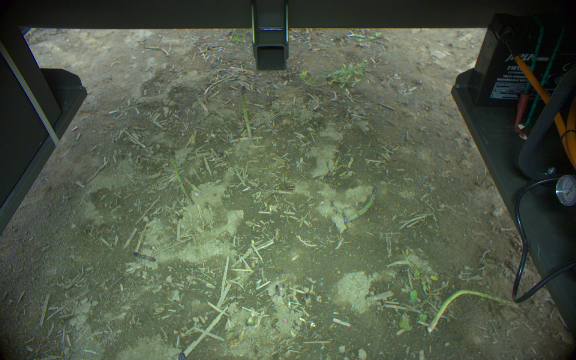aspa: (427, 289, 521, 332), (169, 150, 195, 206), (344, 185, 378, 225), (238, 84, 255, 141), (322, 146, 345, 179)
